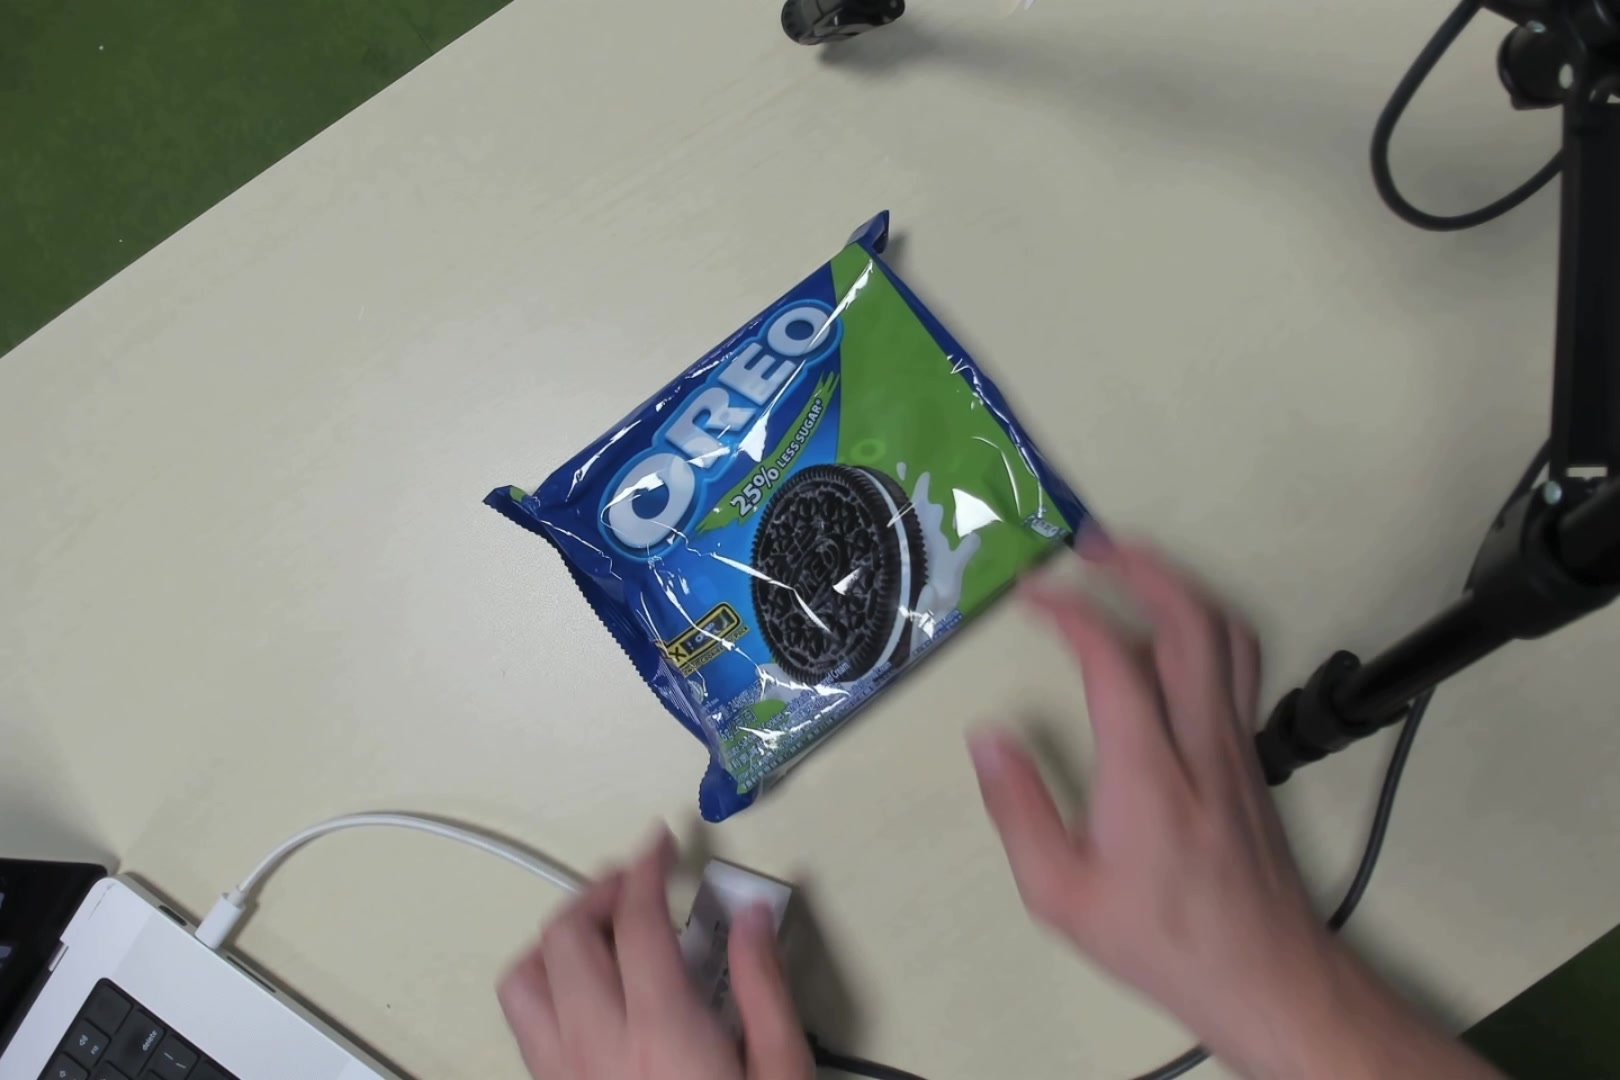SweetsChocolatesOthers_200-299g_Halal_NonHealthy: (581, 260, 992, 730)
